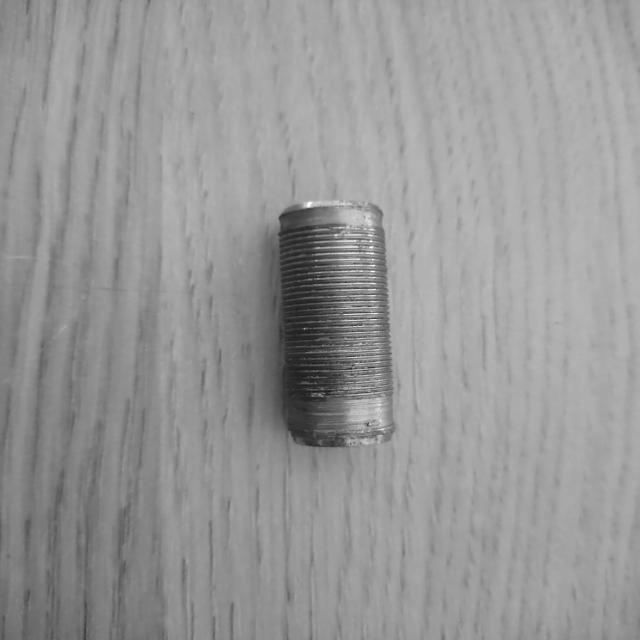Broken: (276, 199, 399, 450)
